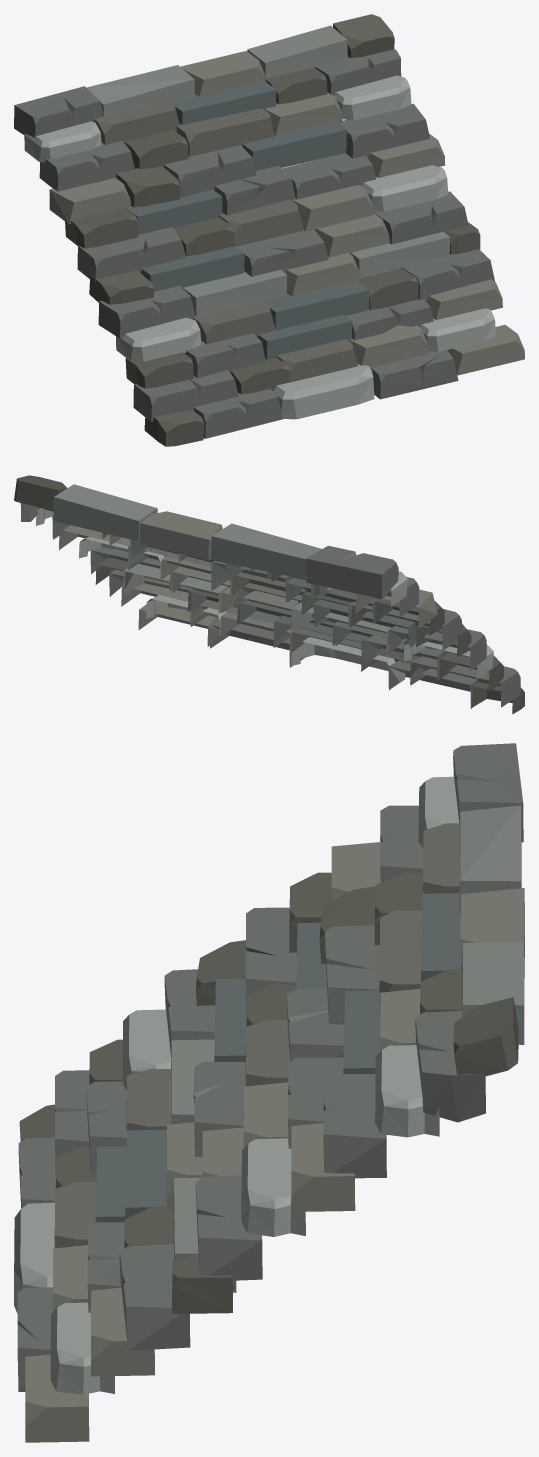
Rendered from ZLP_Stairs_A_7.FBX.
3 views of the same model, one above another, from view 1: azimuth 30°, elevation 25°; view 2: azimuth 150°, elevation 25°; view 3: azimuth 270°, elevation 25° (orthographic). The views are drawn at different scales.
Parts seen in each view (by area): view 1: ZLP_Stairs_A_7; view 2: ZLP_Stairs_A_7; view 3: ZLP_Stairs_A_7.
Boxes of the visible parts, bbox=[...] form: ZLP_Stairs_A_7: bbox=[14, 14, 524, 446]; ZLP_Stairs_A_7: bbox=[14, 475, 524, 714]; ZLP_Stairs_A_7: bbox=[14, 743, 524, 1442].
Bounding box in the file's own units: 754 × 481 × 540.
